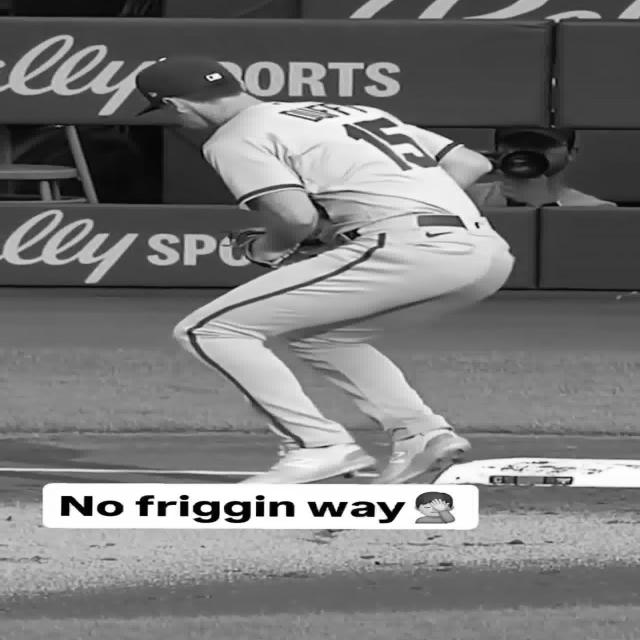base: (436, 458, 640, 488)
baseball_glove: (224, 228, 340, 269)
shoe: (373, 429, 471, 484), (242, 444, 376, 484)
